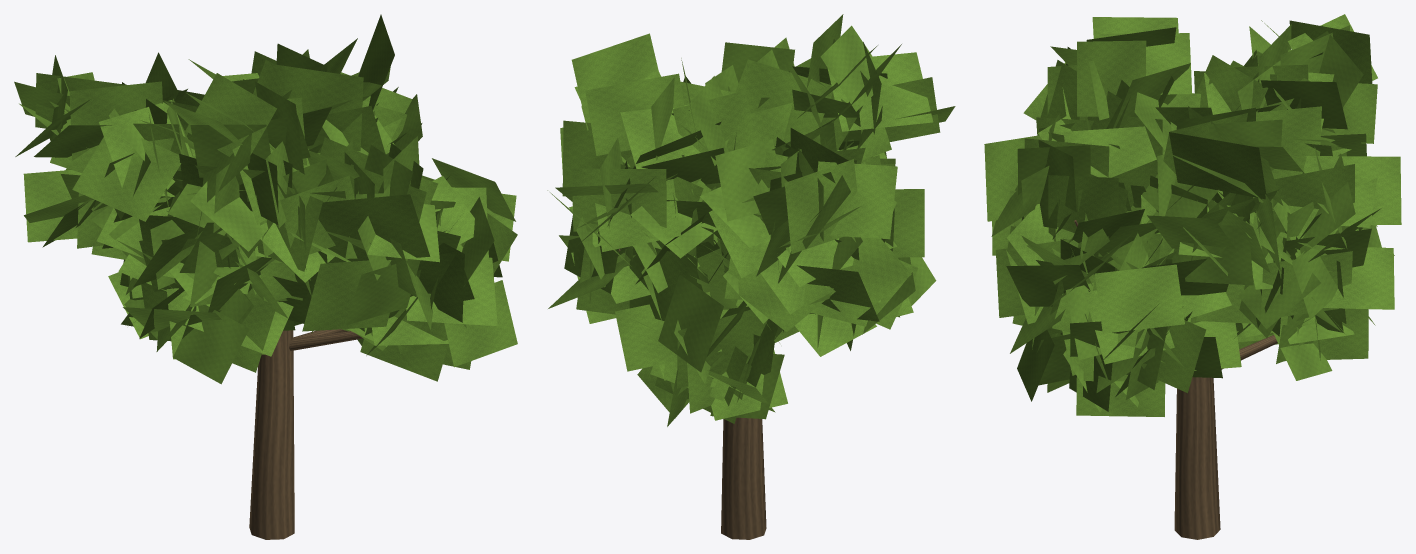
3 renders of one model, left to right at view 1: azimuth 30°, elevation 25°; view 2: azimuth 150°, elevation 25°; view 3: azimuth 270°, elevation 25°, orthographic. The views are drawn at different scales.
Parts seen in each view (by area): view 1: oak-leaf, oak-bark; view 2: oak-leaf, oak-bark; view 3: oak-leaf, oak-bark.
Boxes of the visible parts, x1,y1,x2,y2 form: oak-leaf: (14, 14, 517, 384); oak-bark: (249, 329, 362, 539); oak-leaf: (547, 14, 955, 426); oak-bark: (618, 249, 766, 539); oak-leaf: (984, 14, 1401, 416); oak-bark: (1074, 220, 1277, 539).
Size of the model in its own units: 8.64 by 9.49 by 7.61.
Materials: 2 (2 with a texture image).
